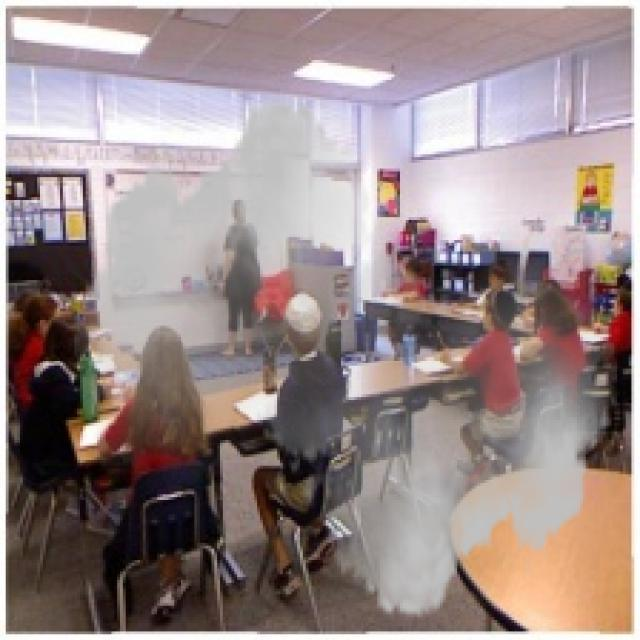Smoke: (74, 82, 617, 634)
